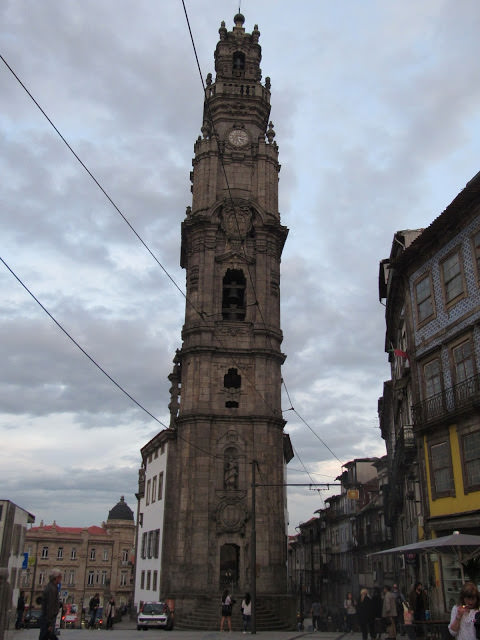clerigos: (169, 0, 290, 616)
